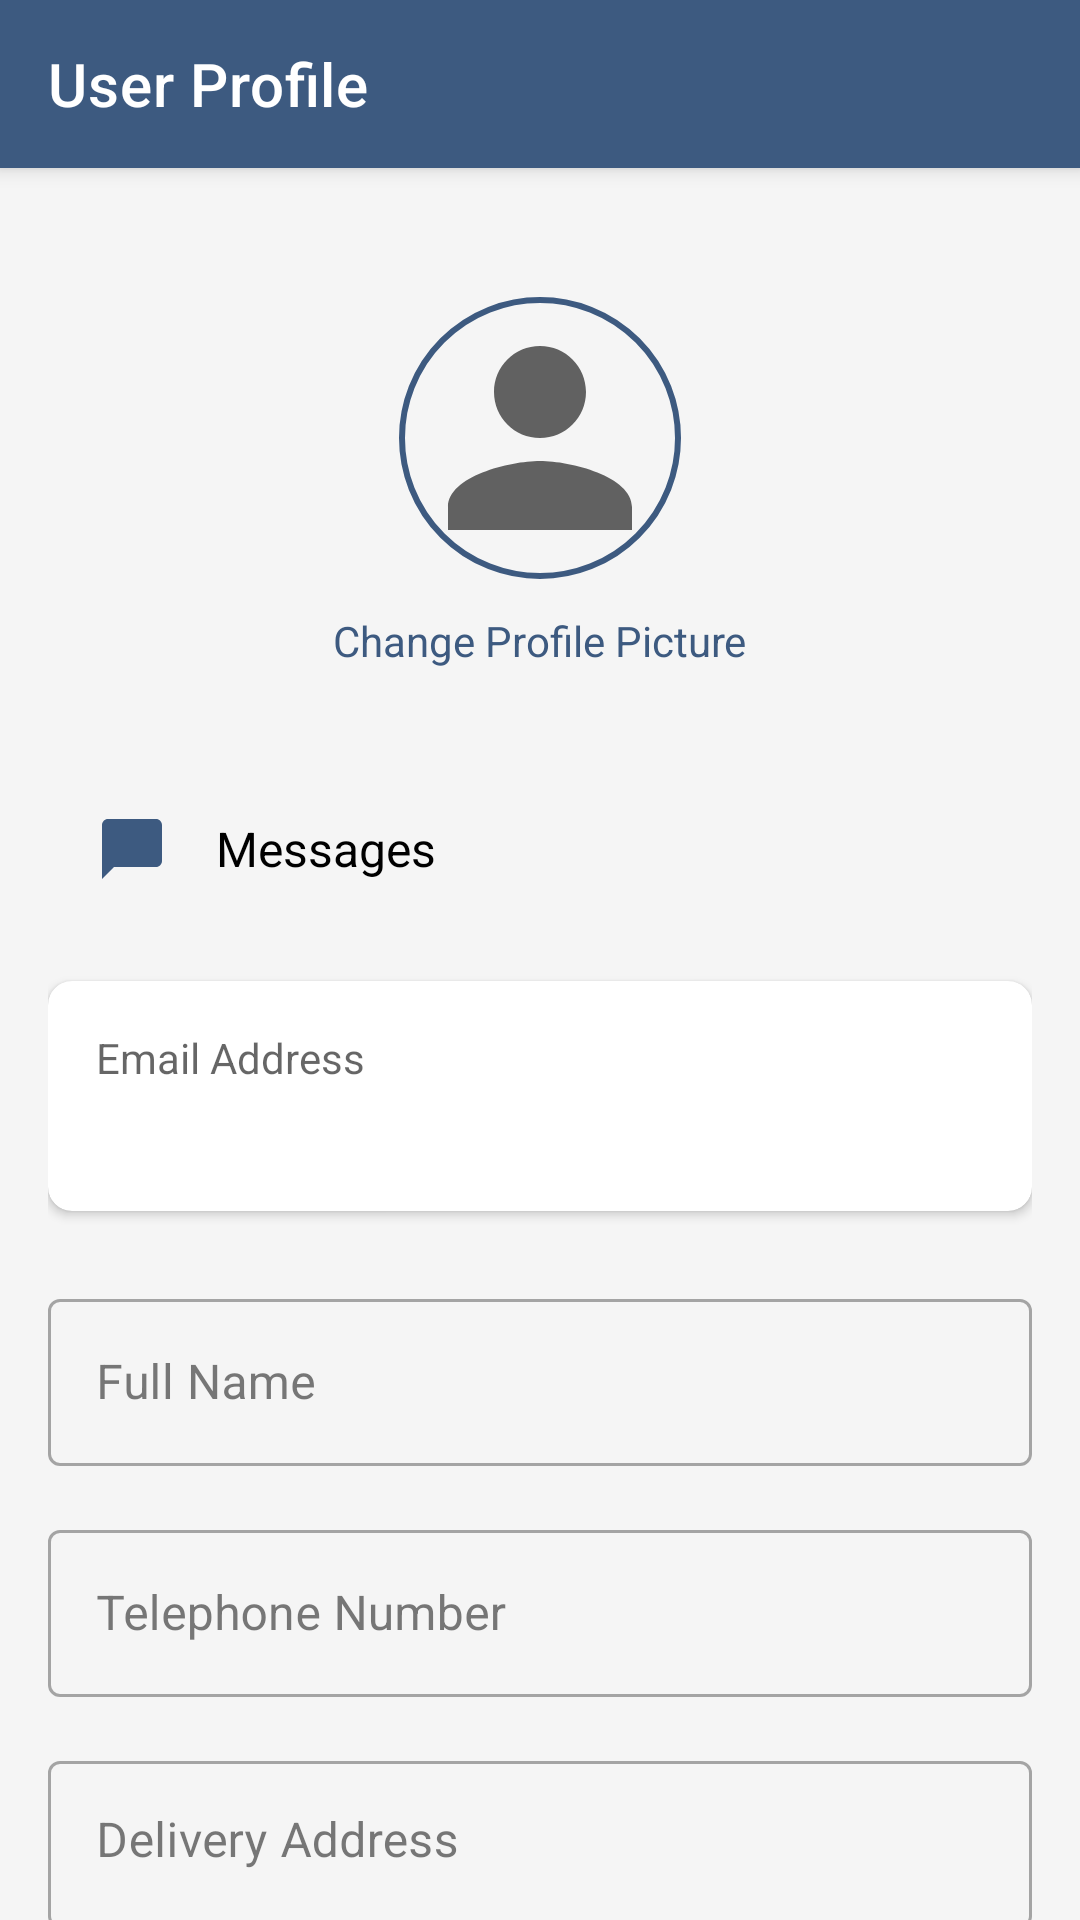

Where to tap for icons on this 1080*1920 app screen, as (x,y):
person: (540,438)
